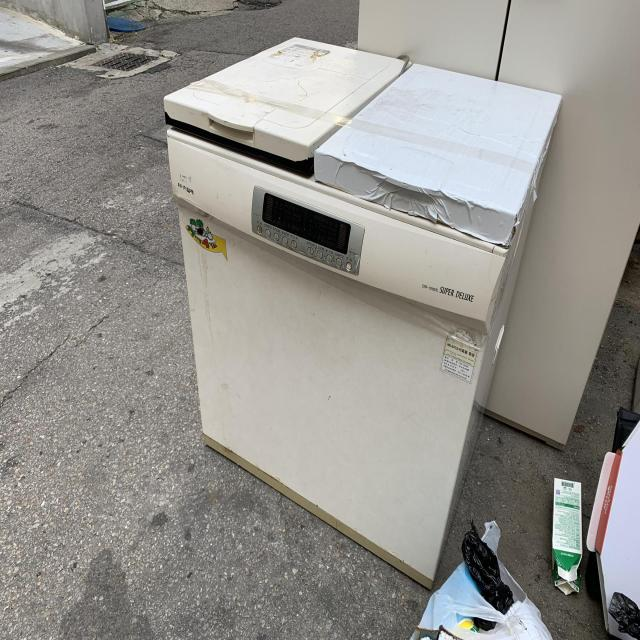refrigerator: (163, 36, 565, 592)
